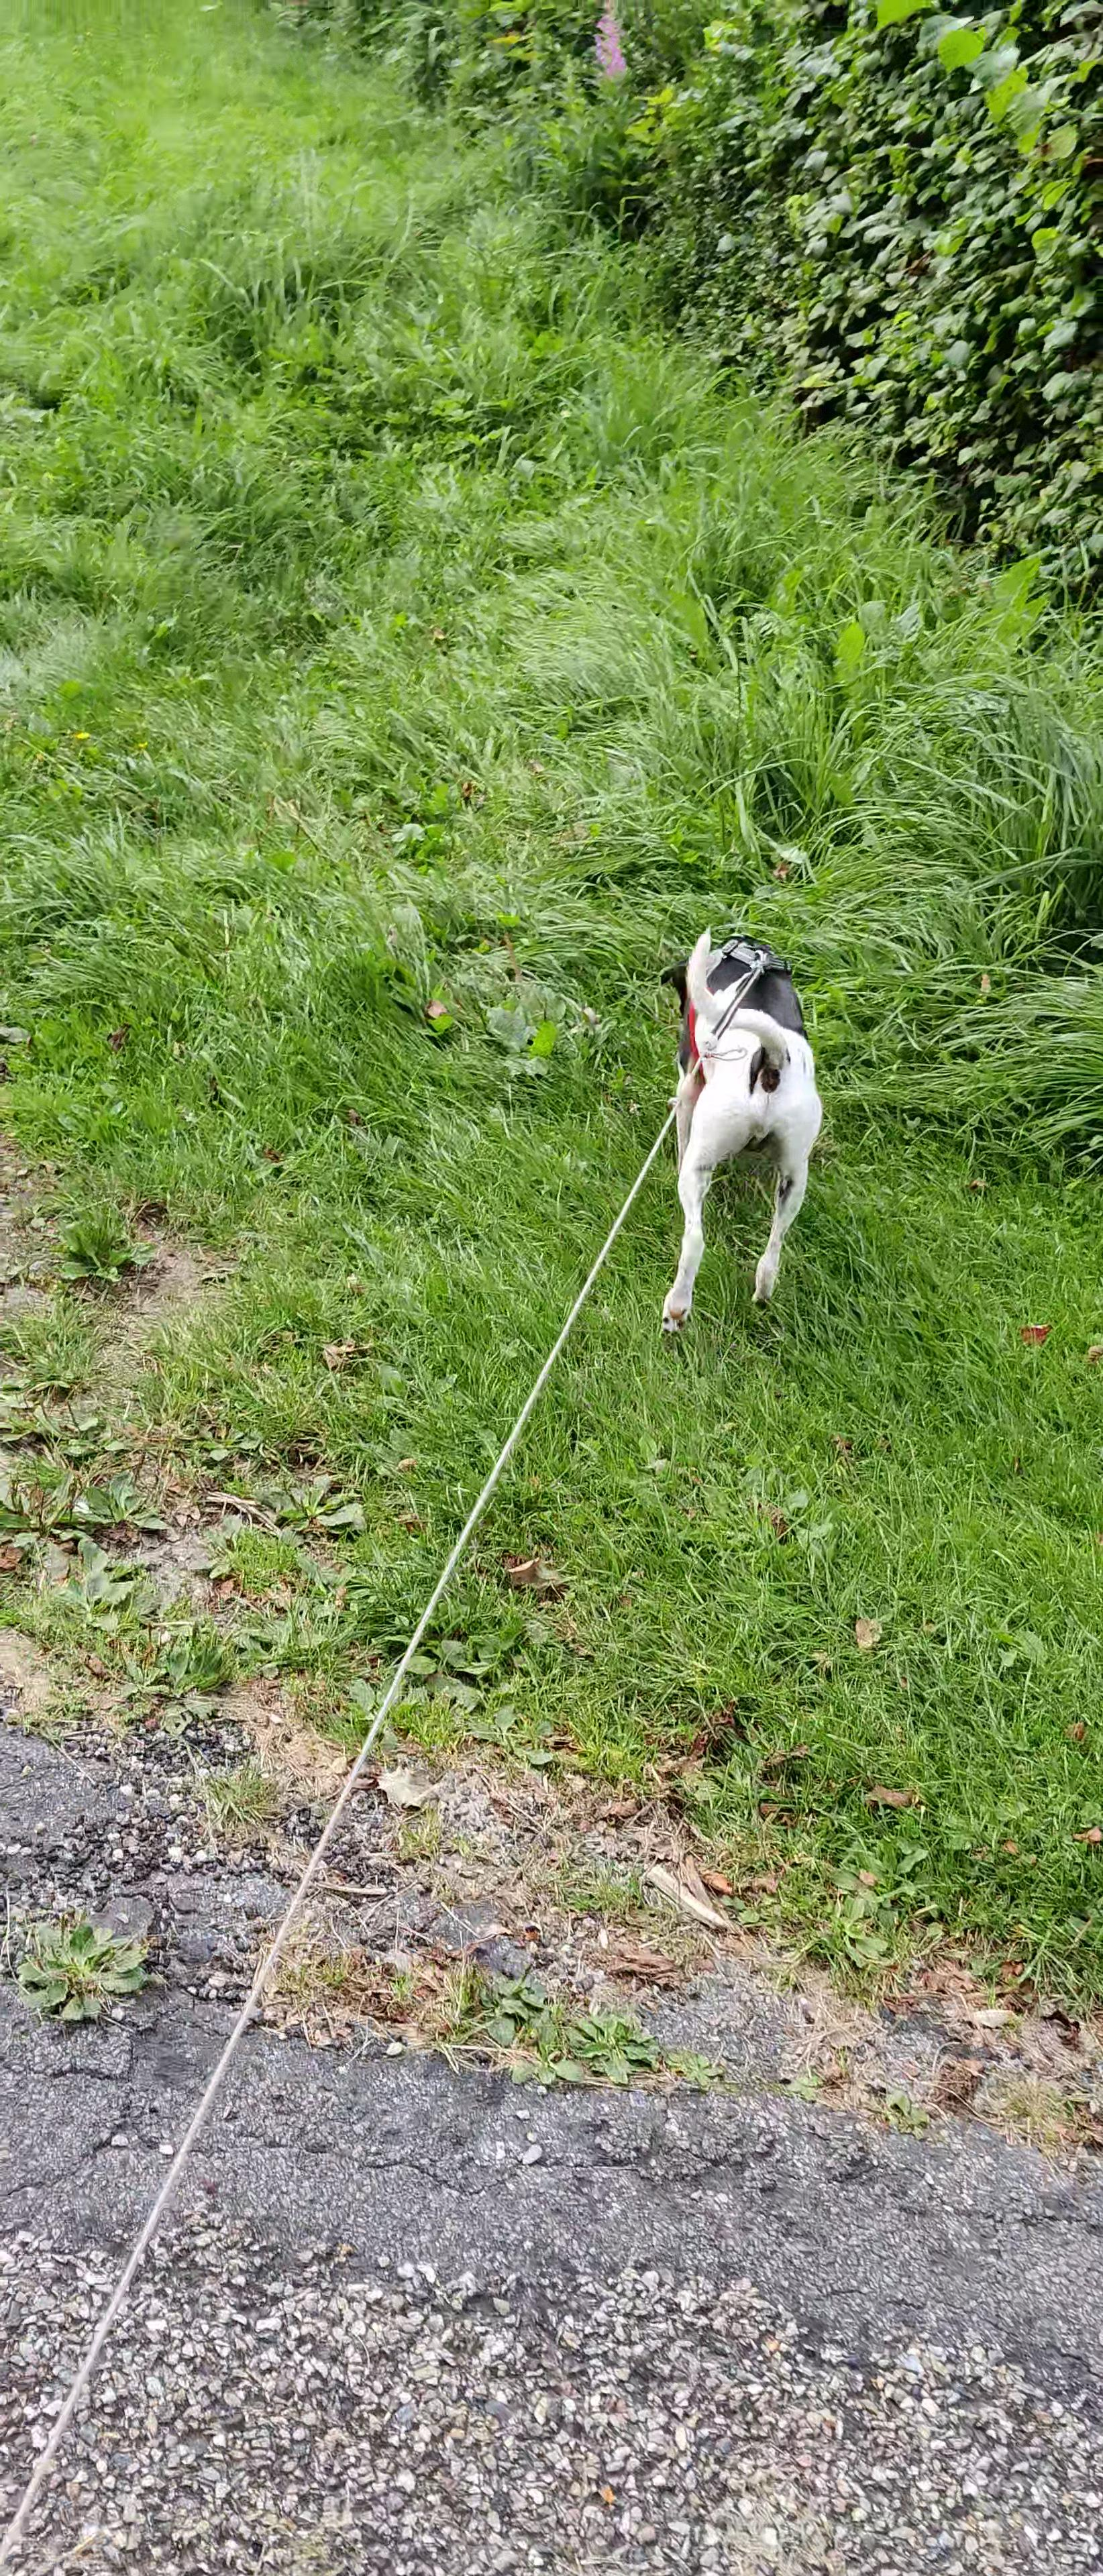Dog: (646, 902, 847, 1342)
